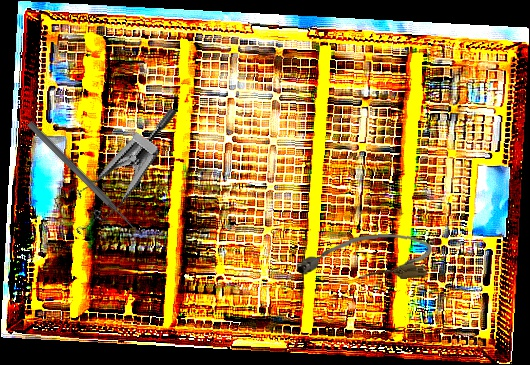Cannula: (295, 232, 433, 283)
Pusher: (25, 119, 144, 239)
Speculum: (44, 79, 180, 251)
